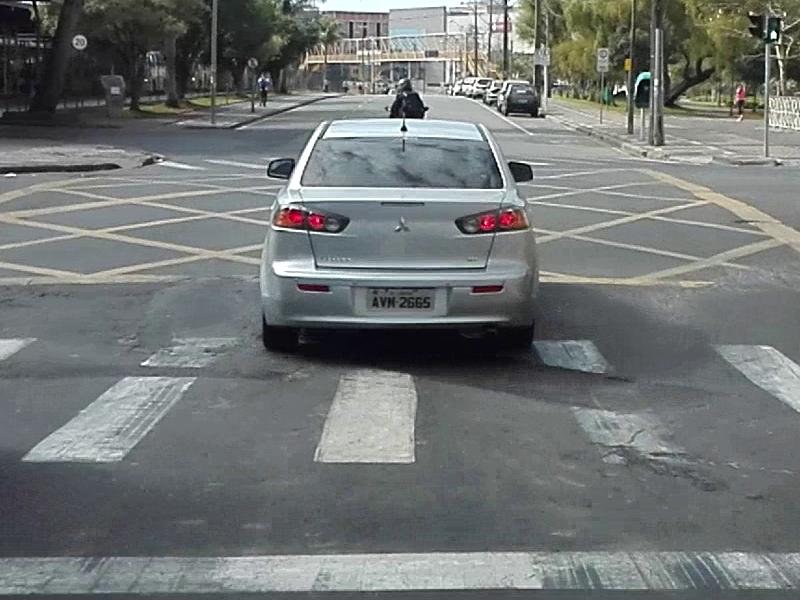placa: (366, 289, 435, 312)
